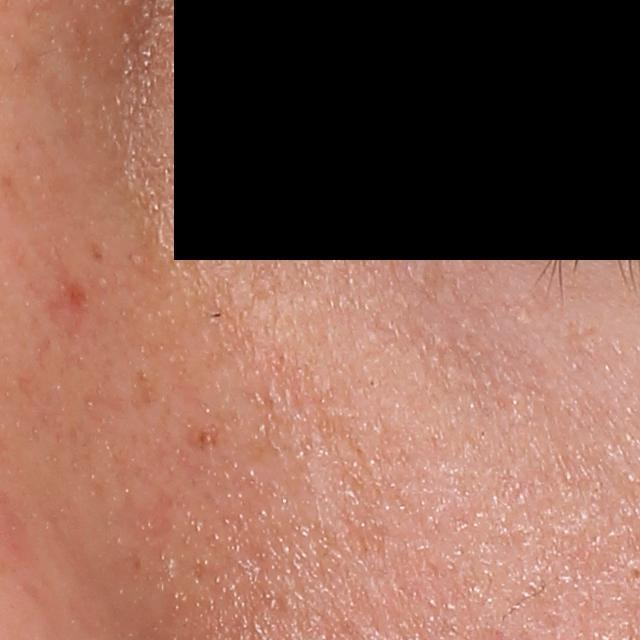melasma: (90, 239, 106, 261)
